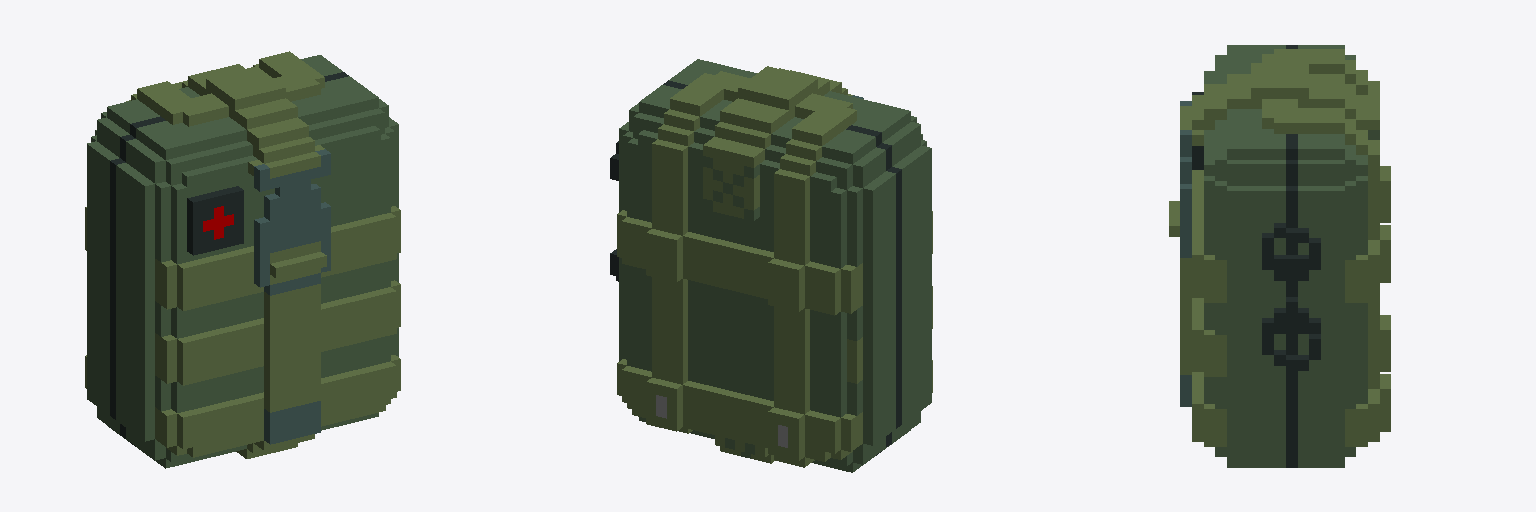
The picture shows the model from 3 angles: view 1: azimuth 30°, elevation 25°; view 2: azimuth 150°, elevation 25°; view 3: azimuth 270°, elevation 25°; orthographic projection.
Visible parts, largest first — view 1: object 1; view 2: object 1; view 3: object 1.
Part boxes in pixels (x1,y1,x2,y2): object 1: (85,51,400,468); object 1: (610,59,932,472); object 1: (1169,45,1390,467).
Size of the model in its own units: 2.7 by 3.3 by 1.9.
1 materials, 1 textured.